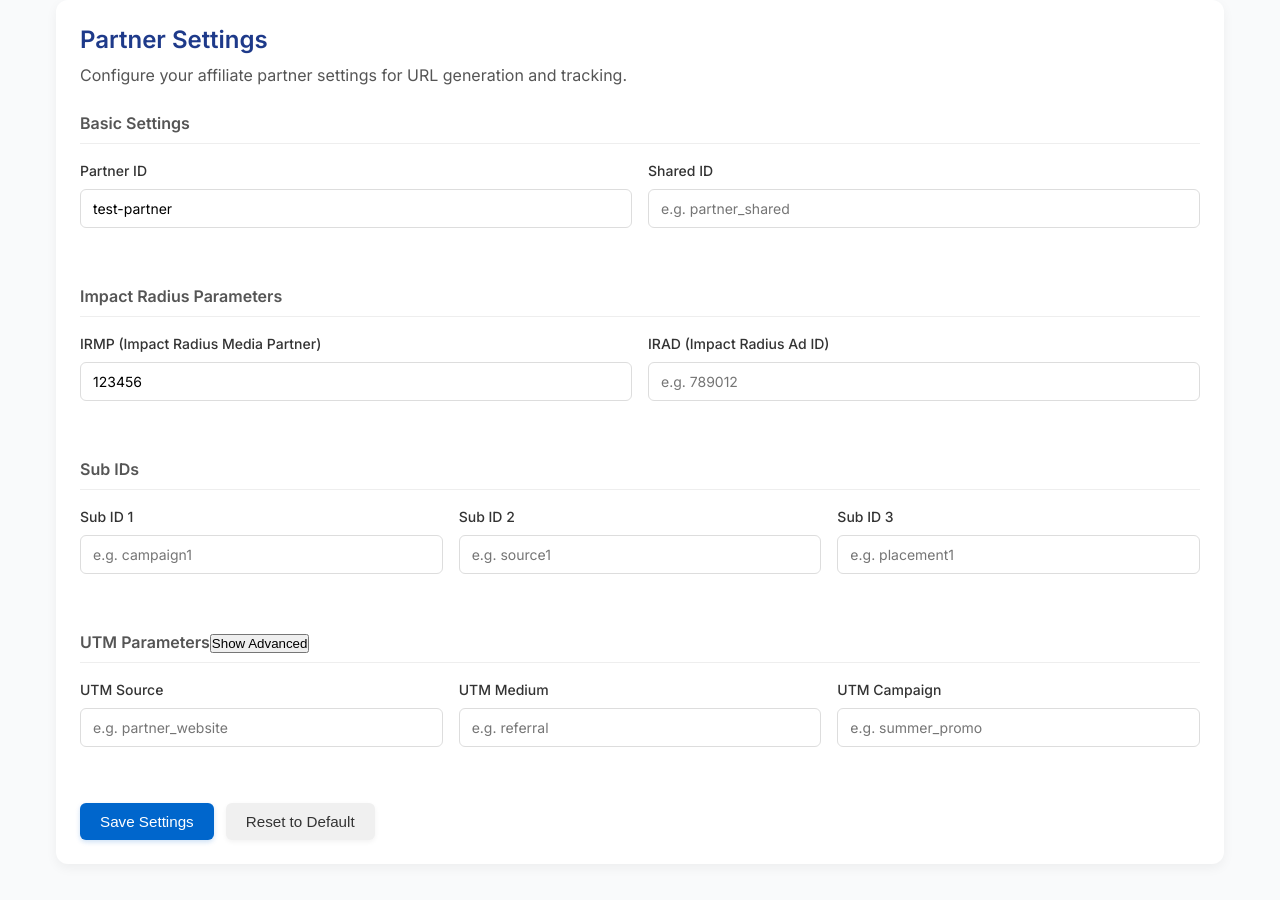
Test: PartnerConfig Component › resets settings to default values when Reset to Default button is clicked
Expected: the field labelled "Partner ID" holds "test-partner", [80,189,632,228]
# Click reset button
Step 1. Click the button "Reset to Default" → (300, 822), box [226,803,375,840]
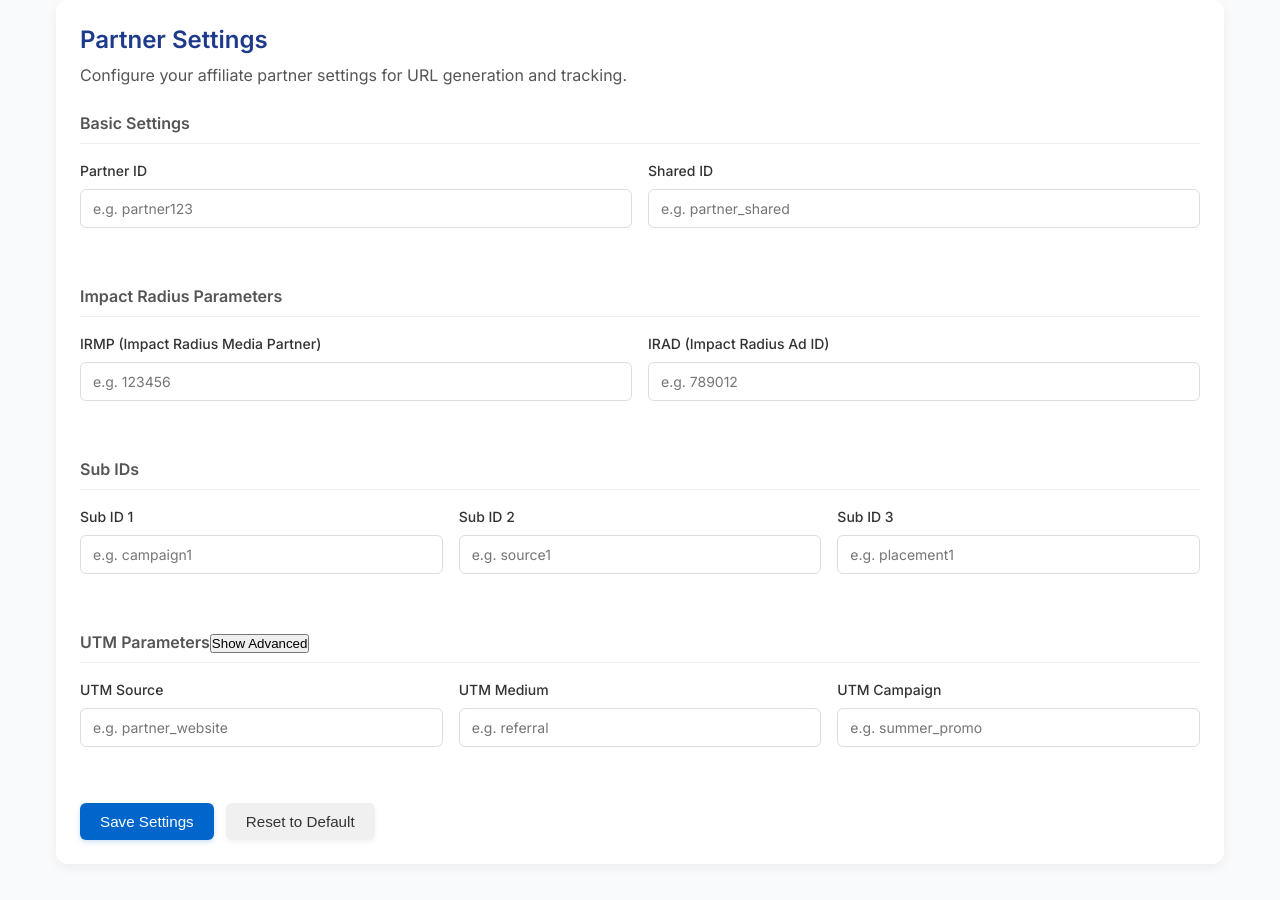
Now the field labelled "Partner ID" is empty, box [80,189,632,228]
Now the field labelled "IRMP (Impact Radius Media Partner)" is empty, box [80,362,632,401]
